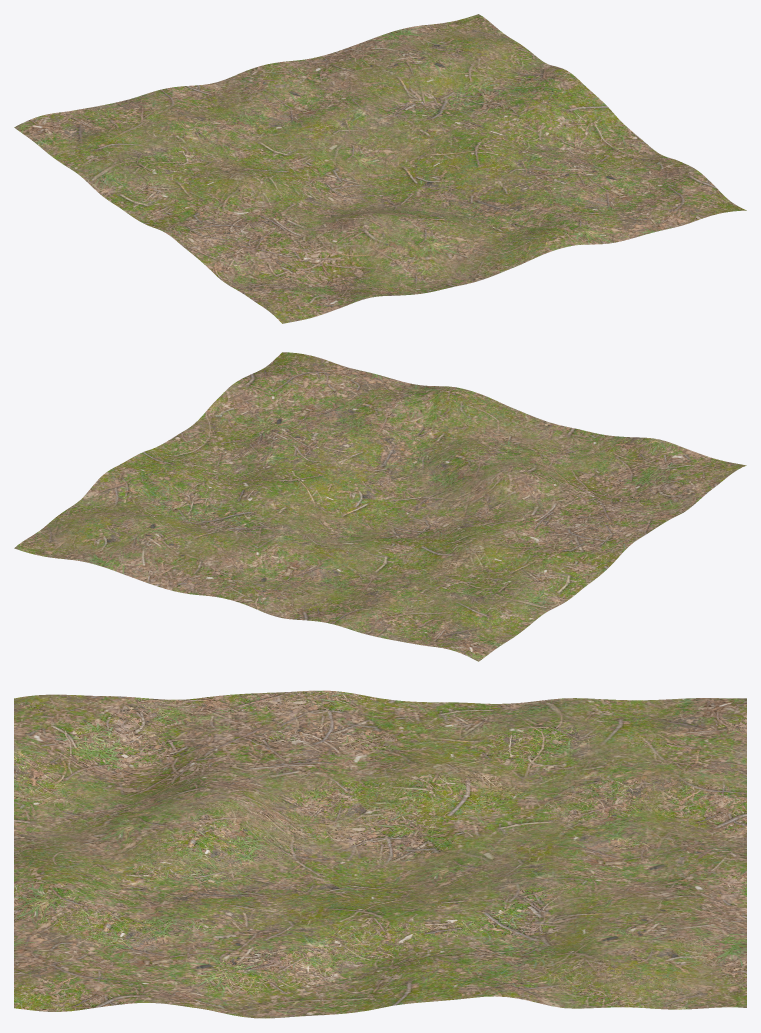
File: terrain.dae
3 views of the same model, one above another, from view 1: azimuth 30°, elevation 25°; view 2: azimuth 150°, elevation 25°; view 3: azimuth 270°, elevation 25° (orthographic). The views are drawn at different scales.
Visible parts, largest first — view 1: Plan; view 2: Plan; view 3: Plan.
Part boxes in pixels (<box>): Plan: <box>14,14,746,323</box>; Plan: <box>14,352,746,661</box>; Plan: <box>14,690,746,1018</box>.
Size of the model in its own units: 59.76 by 59.76 by 3.05.
Materials: 1 (1 with a texture image).
